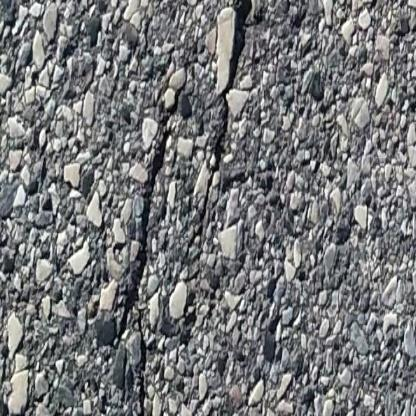Cracks: (77, 0, 287, 416)
